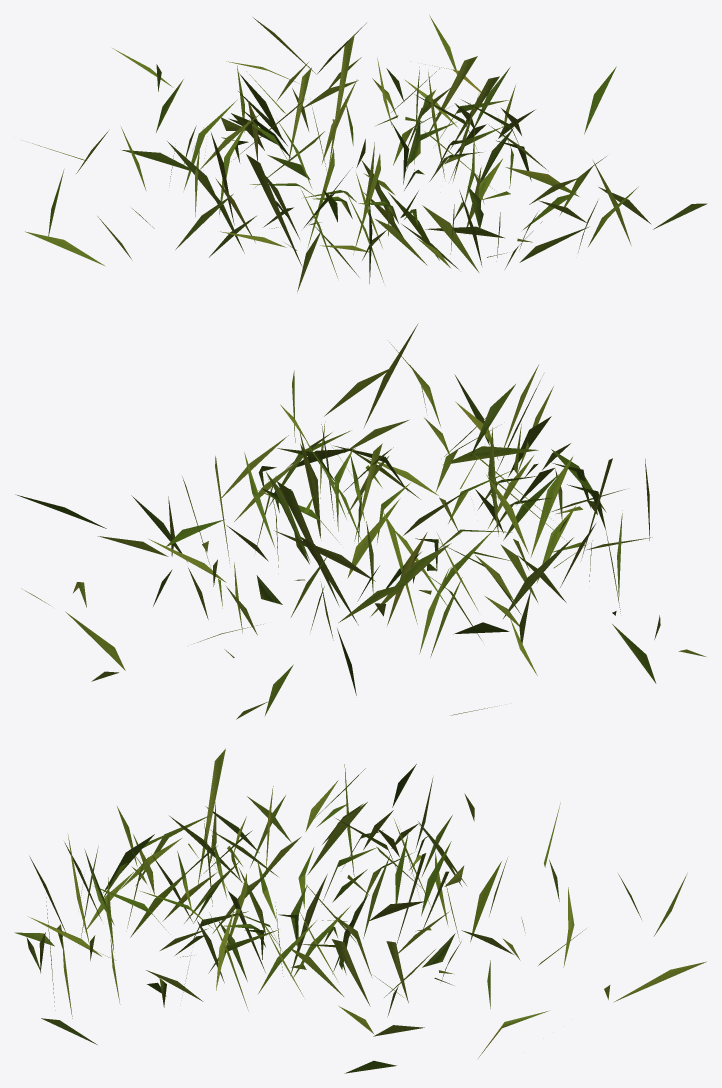
File: Tuft_Tall_B.glb
The picture shows the model from 3 angles, top to bottom: view 1: azimuth 30°, elevation 25°; view 2: azimuth 150°, elevation 25°; view 3: azimuth 270°, elevation 25°; orthographic projection. The views are drawn at different scales.
Visible parts, largest first — view 1: Tuft_Tall_B; view 2: Tuft_Tall_B; view 3: Tuft_Tall_B.
Part boxes in pixels (x1=…): Tuft_Tall_B: x1=25, y1=15, x2=707, y2=291; Tuft_Tall_B: x1=15, y1=323, x2=705, y2=719; Tuft_Tall_B: x1=14, y1=748, x2=706, y2=1073.
Size of the model in its own units: 1.12 by 0.2158 by 1.06.
Materials: 1 (1 with a texture image).
